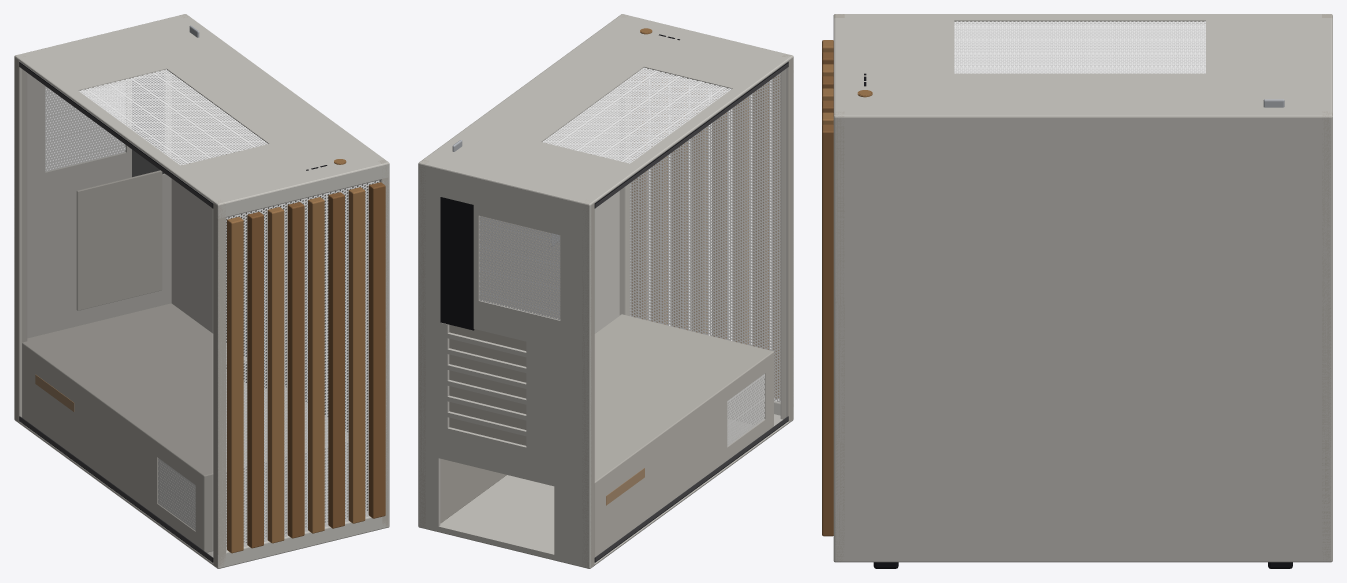
Rendered from case-bitlab-grove_lod1.glb.
3 views of the same model, side by side, from view 1: azimuth 30°, elevation 25°; view 2: azimuth 150°, elevation 25°; view 3: azimuth 270°, elevation 25° (orthographic). The views are drawn at different scales.
Visible parts, largest first — view 1: case_CaseSolid, glass_side, case_Perforated; view 2: case_CaseSolid, glass_side, case_Perforated; view 3: case_CaseSolid, case_Perforated.
Part boxes in pixels (<box>): case_CaseSolid: <box>14,14,389,568</box>; glass_side: <box>20,64,212,560</box>; case_Perforated: <box>45,69,379,550</box>; case_CaseSolid: <box>418,14,793,568</box>; glass_side: <box>595,64,787,560</box>; case_Perforated: <box>479,67,780,446</box>; case_CaseSolid: <box>822,14,1332,568</box>; case_Perforated: <box>954,21,1205,73</box>.
Size of the model in its own units: 0.232 by 0.495 by 0.487.
3 materials, 1 textured.
